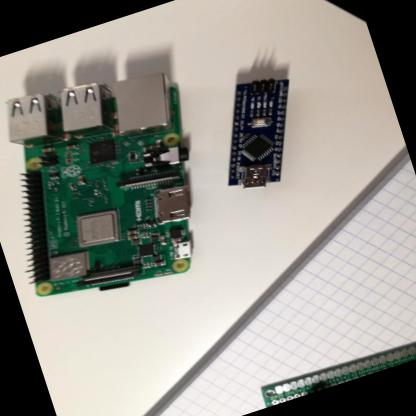Arduino_Nano: (200, 69, 321, 201)
Raspberry_Pi_3: (1, 48, 237, 327)
